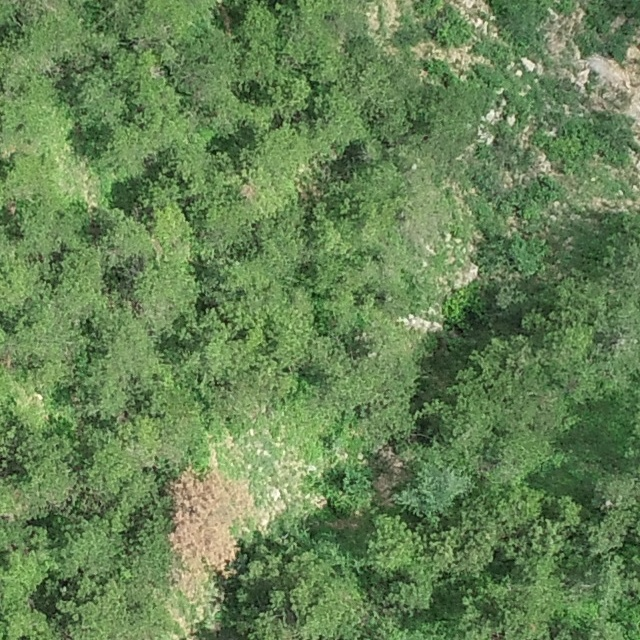unhealthy: (161, 468, 249, 570)
